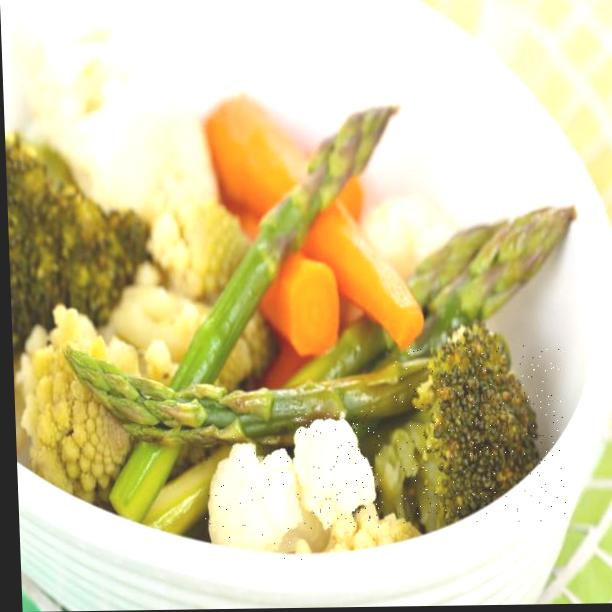Broccoli: (391, 344, 567, 524)
Cauliflower: (202, 436, 315, 563), (292, 411, 384, 534)
